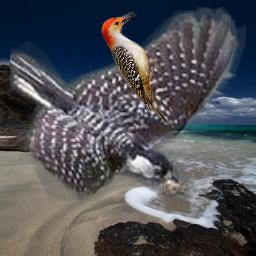Woodpecker: (10, 7, 246, 206), (101, 11, 170, 126)
